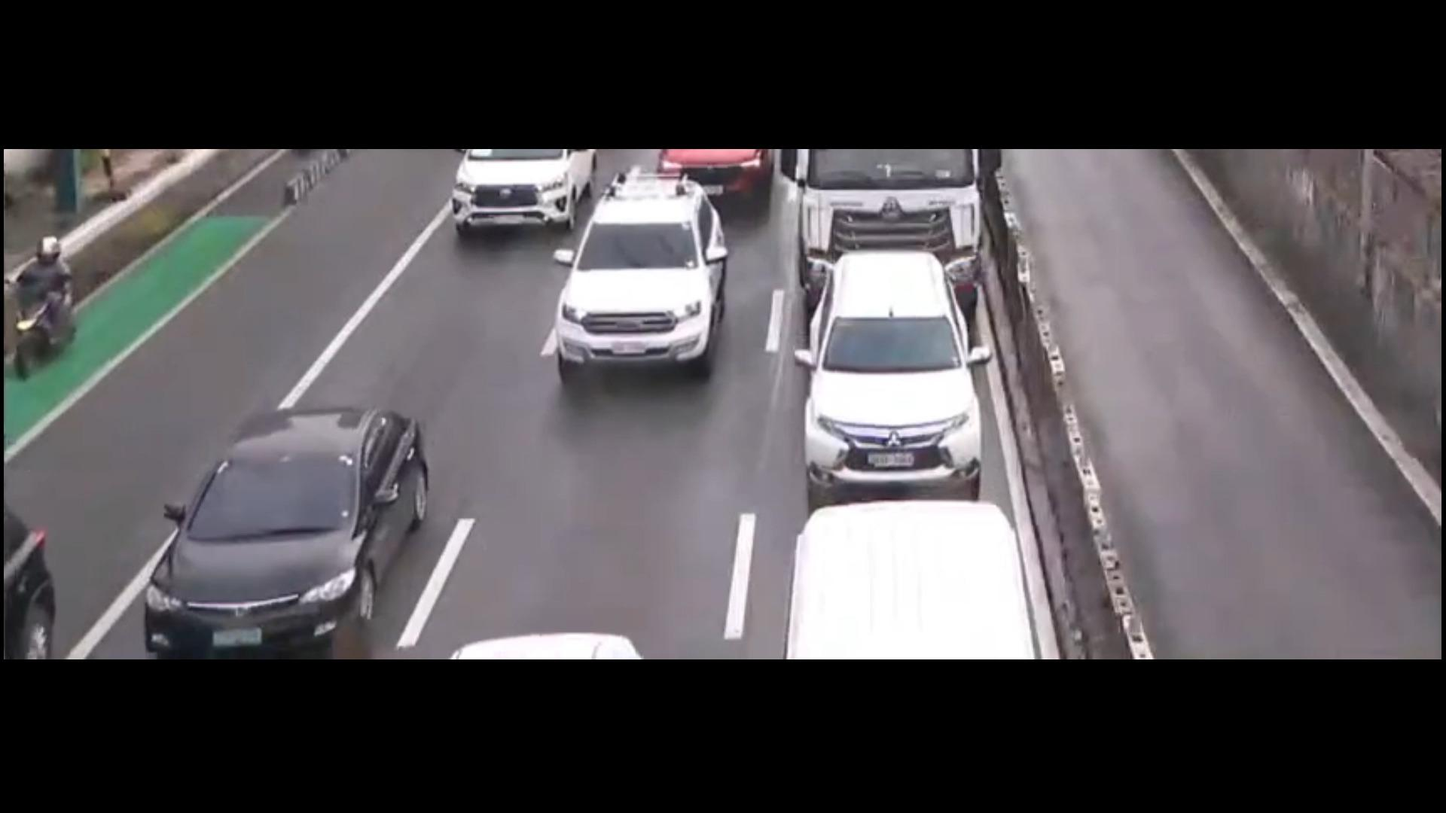Motorcycle: (0, 213, 81, 386)
SUV: (800, 251, 989, 510), (550, 168, 730, 384), (450, 149, 597, 236)
Sedan: (139, 402, 434, 658)
Van: (791, 500, 1035, 658)
